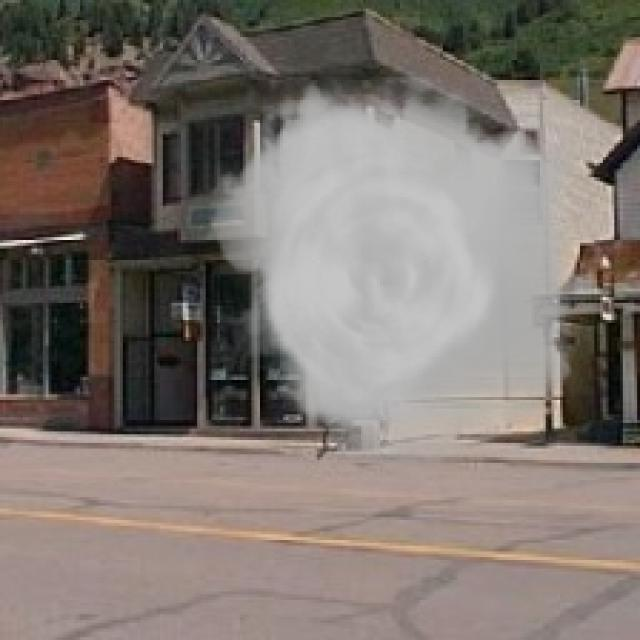smoke: (197, 77, 592, 469)
